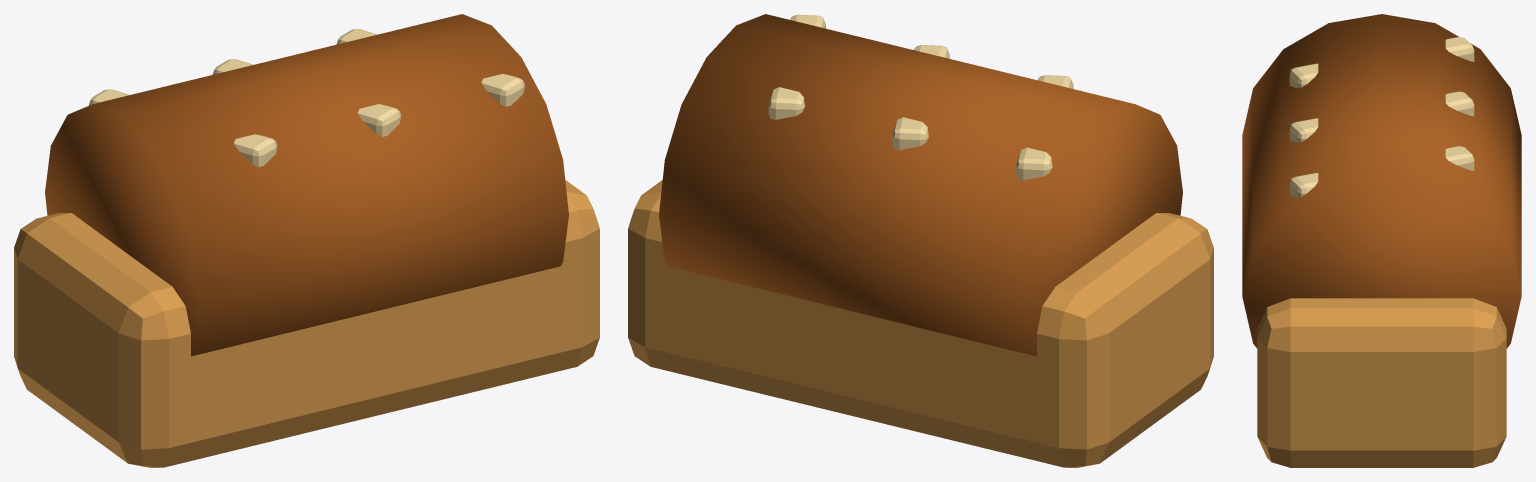
The model's file is bread-loaf.glb.
3 views of the same model, side by side, from view 1: azimuth 30°, elevation 25°; view 2: azimuth 150°, elevation 25°; view 3: azimuth 270°, elevation 25° (orthographic). The views are drawn at different scales.
Parts seen in each view (by area): view 1: LoafCrown, LoafBase, Slash_-0.07, Slash_0.07, Slash_0.00; view 2: LoafCrown, LoafBase, Slash_0.07, Slash_-0.07, Slash_0.00; view 3: LoafCrown, LoafBase, Slash_-0.07, Slash_0.07, Slash_0.00.
Boxes of the visible parts, left/top/right/bottom form: LoafCrown: left=45, top=14, right=568, bottom=356; LoafBase: left=14, top=180, right=599, bottom=467; Slash_-0.07: left=89, top=89, right=277, bottom=167; Slash_0.07: left=336, top=29, right=524, bottom=106; Slash_0.00: left=212, top=59, right=401, bottom=136; LoafCrown: left=659, top=14, right=1182, bottom=356; LoafBase: left=628, top=180, right=1213, bottom=467; Slash_0.07: left=768, top=14, right=825, bottom=119; Slash_-0.07: left=1016, top=75, right=1073, bottom=180; Slash_0.00: left=892, top=45, right=949, bottom=149; LoafCrown: left=1242, top=14, right=1521, bottom=348; LoafBase: left=1257, top=298, right=1506, bottom=467; Slash_-0.07: left=1289, top=37, right=1474, bottom=88; Slash_0.07: left=1289, top=146, right=1474, bottom=197; Slash_0.00: left=1289, top=91, right=1474, bottom=142.
Bounding box in the file's own units: 0.27 × 0.1675 × 0.1512.
